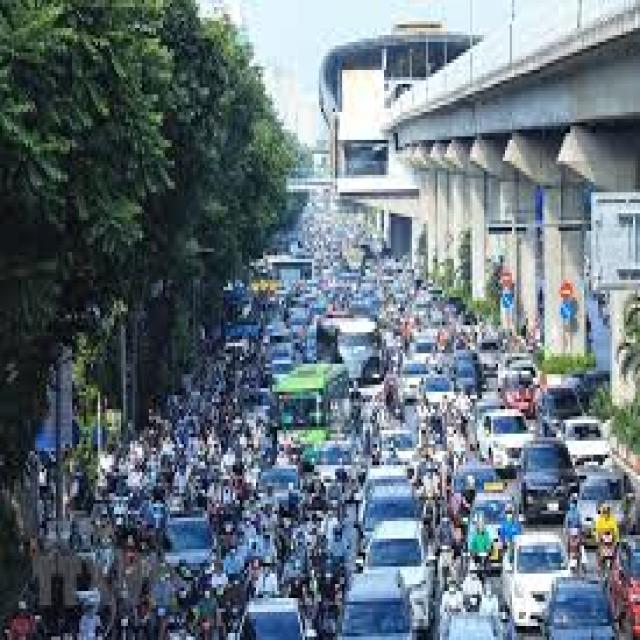vehicle: (250, 366, 364, 456), (362, 516, 446, 602), (521, 424, 582, 532), (352, 563, 431, 640), (497, 526, 574, 596), (454, 579, 535, 640)
